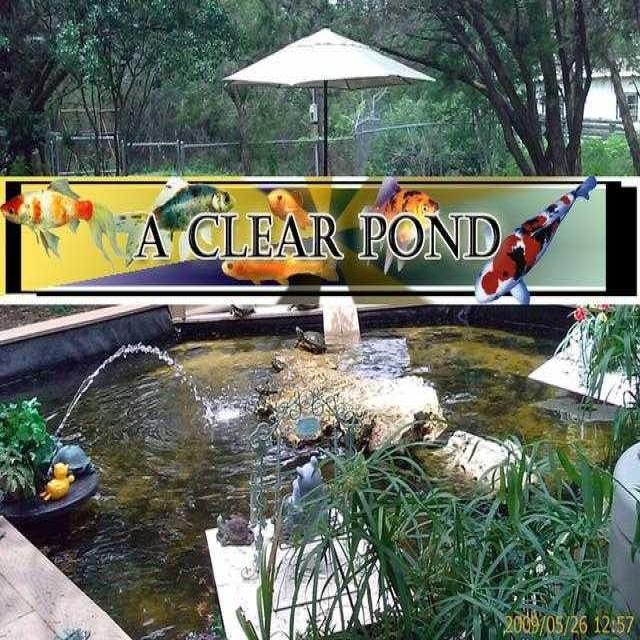Ponds: (1, 300, 636, 640)
